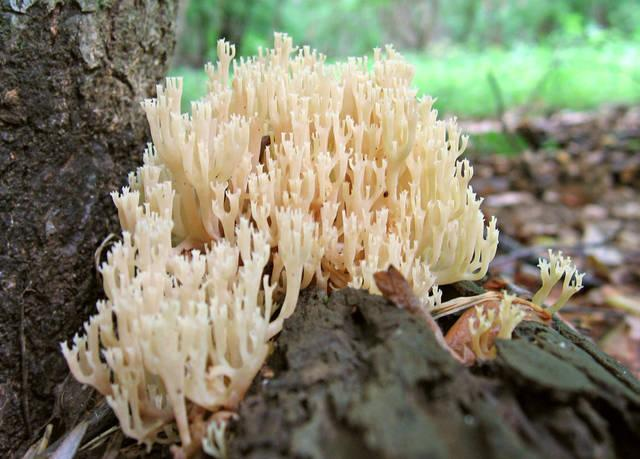Edible Mushroom: (58, 29, 502, 455), (438, 248, 585, 366), (442, 290, 550, 366)
